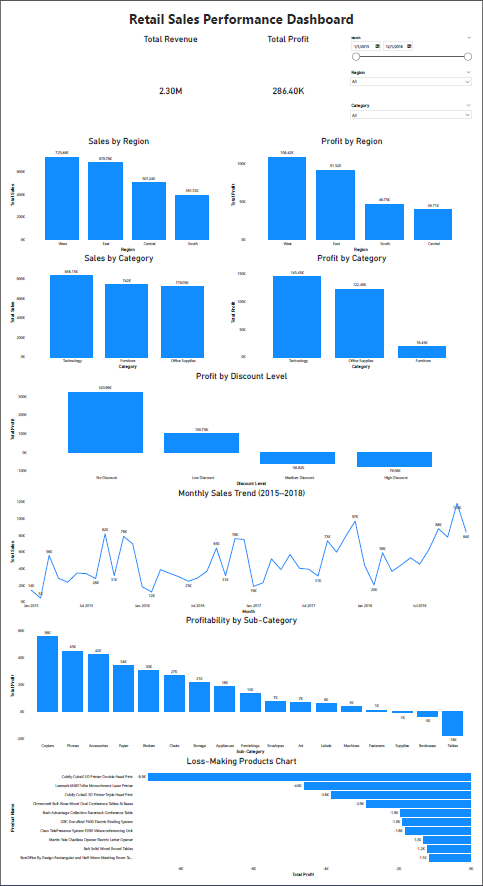

The dashboard page shown, as its layout file describes it:
{"tool":"powerbi","page":{"name":"Page 1","canvas":[1500,2800],"ordinal":0},"visuals":[{"type":"card","title":"Total Revenue","fields":{"Values":["Sum(public v_sales_kpis.total_revenue)"]},"box":[332.5,82.5,377.5,327.5],"z":0},{"type":"card","title":"Total Profit","fields":{"Values":["Sum(public v_sales_kpis.total_profit)"]},"box":[710,82.5,380,327.5],"z":1000},{"type":"clusteredColumnChart","title":"Sales by Region","fields":{"Category":["public v_regional_performance.region"],"Y":["Sum(public v_regional_performance.total_sales)"]},"box":[0,410,710,377.5],"z":2000},{"type":"clusteredColumnChart","title":"Profit by Region","fields":{"Category":["public v_regional_performance.region"],"Y":["Sum(public v_regional_performance.total_profit)"]},"box":[710,410,790,377.5],"z":3000},{"type":"clusteredColumnChart","title":"Sales by Category","fields":{"Category":["public v_category_performance.category"],"Y":["Sum(public v_category_performance.total_sales)"]},"box":[0,787.5,710,377.5],"z":4000},{"type":"clusteredColumnChart","title":"Profit by Category","fields":{"Category":["public v_category_performance.category"],"Y":["Sum(public v_category_performance.total_profit)"]},"box":[710,787.5,790,377.5],"z":5000},{"type":"clusteredColumnChart","title":"Profit by Discount Level","fields":{"Category":["public v_discount_analysis.discount_level"],"Y":["Sum(public v_discount_analysis.total_profit)"]},"box":[0,1165,1500,377.5],"z":6000},{"type":"lineChart","title":"Monthly Sales Trend (2015–2018)","fields":{"Y":["Sum(public v_monthly_sales_trend.total_sales)"],"Category":["public v_monthly_sales_trend.month"]},"box":[0,1542.5,1500,410],"z":7000},{"type":"clusteredColumnChart","title":"Profitability by Sub-Category","fields":{"Category":["public v_subcategory_profitability.sub_category"],"Y":["Sum(public v_subcategory_profitability.total_profit)"]},"box":[0,1952.5,1500,452.5],"z":8000},{"type":"clusteredBarChart","title":"Loss-Making Products Chart","fields":{"Category":["public v_product_profitability.product_name"],"Y":["Sum(public v_product_profitability.total_profit)"]},"box":[0,2405,1500,395],"z":9000},{"type":"textbox","box":[0,0,1500,82.5],"z":10000},{"type":"slicer","fields":{"Values":["public v_monthly_sales_trend.month"]},"box":[1090,82.5,410,165],"z":11000},{"type":"slicer","fields":{"Values":["public v_regional_performance.region"]},"box":[1090,247.5,410,162.5],"z":12000}]}

Visuals, with their boxes in screenshot pixels (x1, y1, x2, y2), scaled from the page's 1500x2800 canvas onto the 483x886 screenshot:
"Total Revenue" card: 107:26:229:130
"Total Profit" card: 229:26:351:130
"Sales by Region" clusteredColumnChart: 0:130:229:249
"Profit by Region" clusteredColumnChart: 229:130:482:249
"Sales by Category" clusteredColumnChart: 0:249:229:369
"Profit by Category" clusteredColumnChart: 229:249:482:369
"Profit by Discount Level" clusteredColumnChart: 0:369:482:488
"Monthly Sales Trend (2015–2018)" lineChart: 0:488:482:618
"Profitability by Sub-Category" clusteredColumnChart: 0:618:482:761
"Loss-Making Products Chart" clusteredBarChart: 0:761:482:885
textbox: 0:0:482:26
slicer - public v_monthly_sales_trend.month: 351:26:482:78
slicer - public v_regional_performance.region: 351:78:482:130
